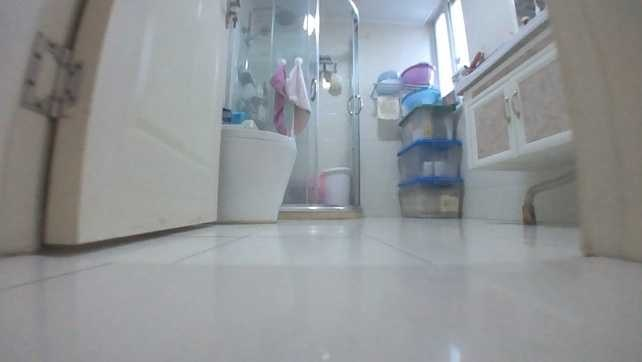door_anno: (0, 0, 242, 257)
toilet: (218, 120, 299, 225)
